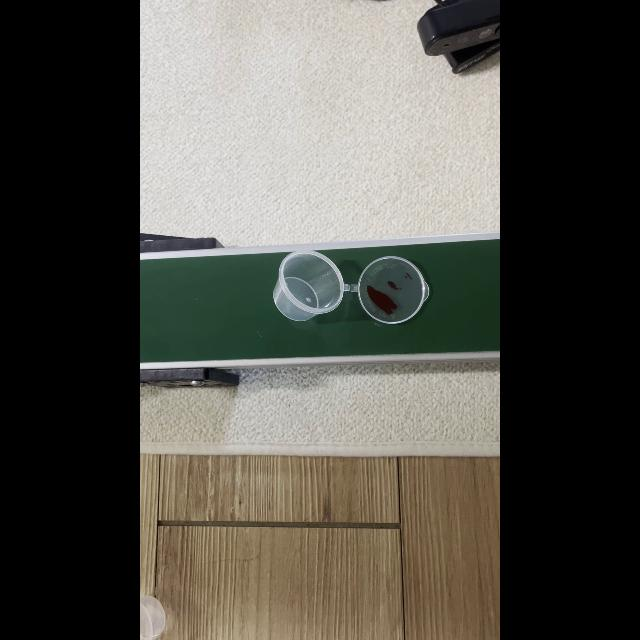dirty: (276, 250, 430, 324)
